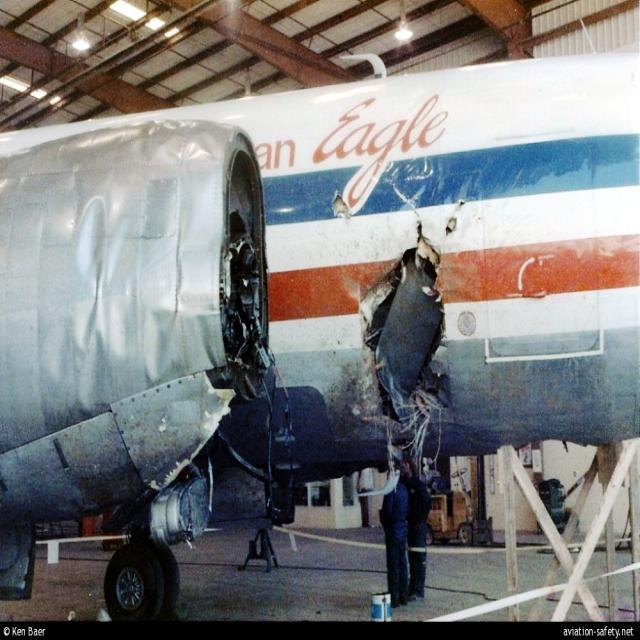dent: (43, 196, 190, 419)
